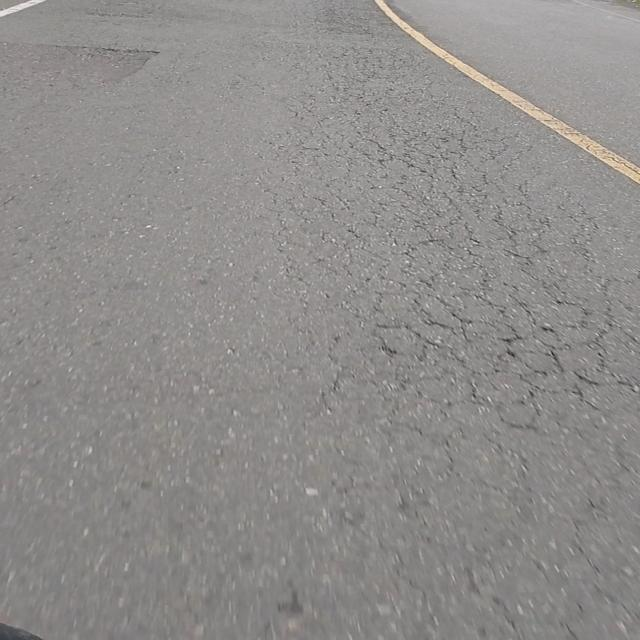Retak Buaya: (277, 16, 625, 434)
